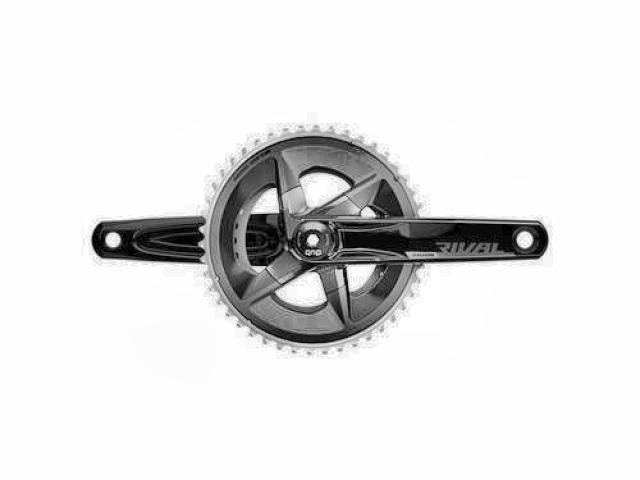cranks_set: (199, 125, 551, 359)
